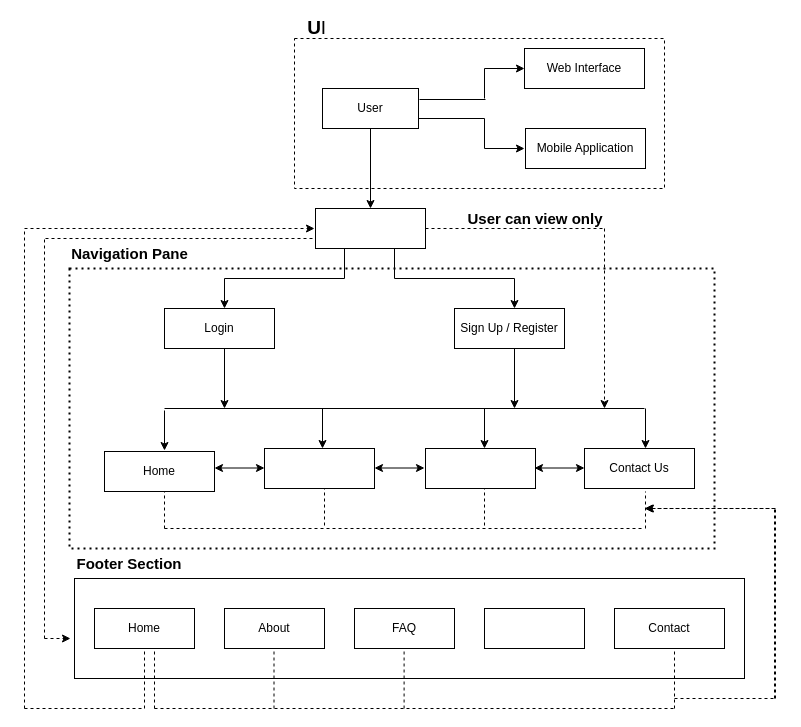
The diagram is 801 pixels wide and 727 high, and some of its shapes have lost their labels. Each missing label, with the centre of its shape:
Channeling: the point at 319,468
Feedback: the point at 534,628
Home Page: the point at 370,228
Lab Test: the point at 480,468
